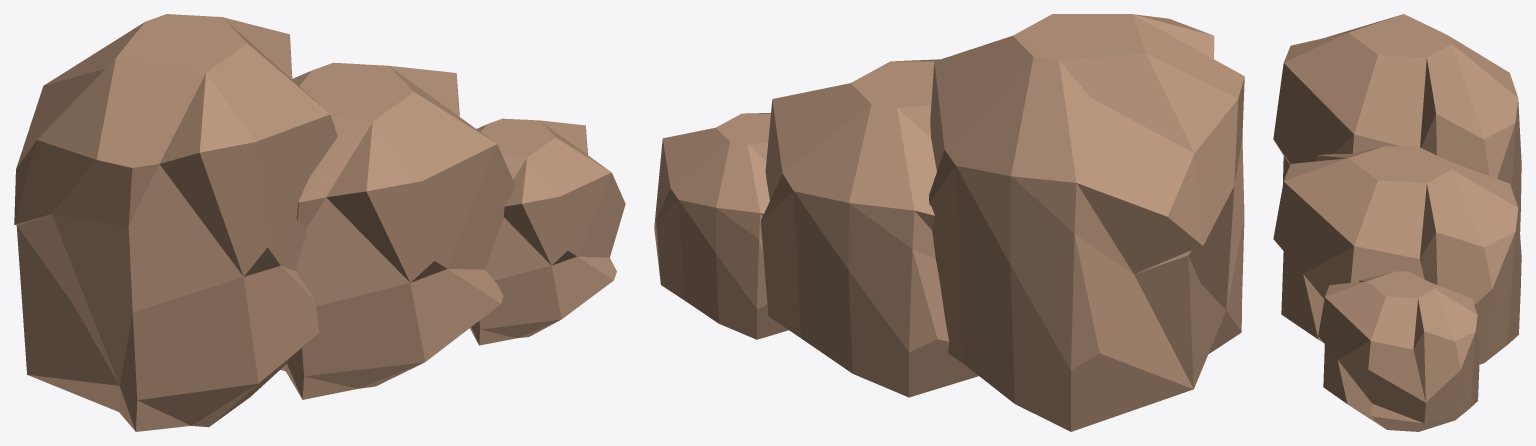
Rendered from rocas.fbx.
3 views of the same model, side by side, from view 1: azimuth 30°, elevation 25°; view 2: azimuth 150°, elevation 25°; view 3: azimuth 270°, elevation 25° (orthographic). The views are drawn at different scales.
Parts seen in each view (by area): view 1: roca_2, roca_1, roca_3; view 2: roca_2, roca_1, roca_3; view 3: roca_1, roca_2, roca_3.
Part boxes in pixels (<box>): roca_2: <box>14,14,337,431</box>; roca_1: <box>280,62,515,399</box>; roca_3: <box>470,118,625,345</box>; roca_2: <box>929,14,1244,431</box>; roca_1: <box>760,59,978,397</box>; roca_3: <box>654,113,788,339</box>; roca_1: <box>1273,146,1521,364</box>; roca_2: <box>1273,14,1521,231</box>; roca_3: <box>1318,271,1479,431</box>.
Bounding box in the file's own units: 7.17 × 4.26 × 3.67.
